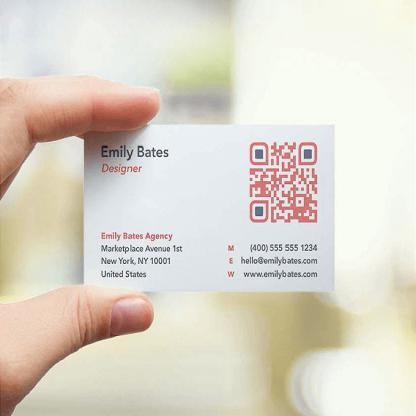qr_code: (250, 142, 318, 223)
